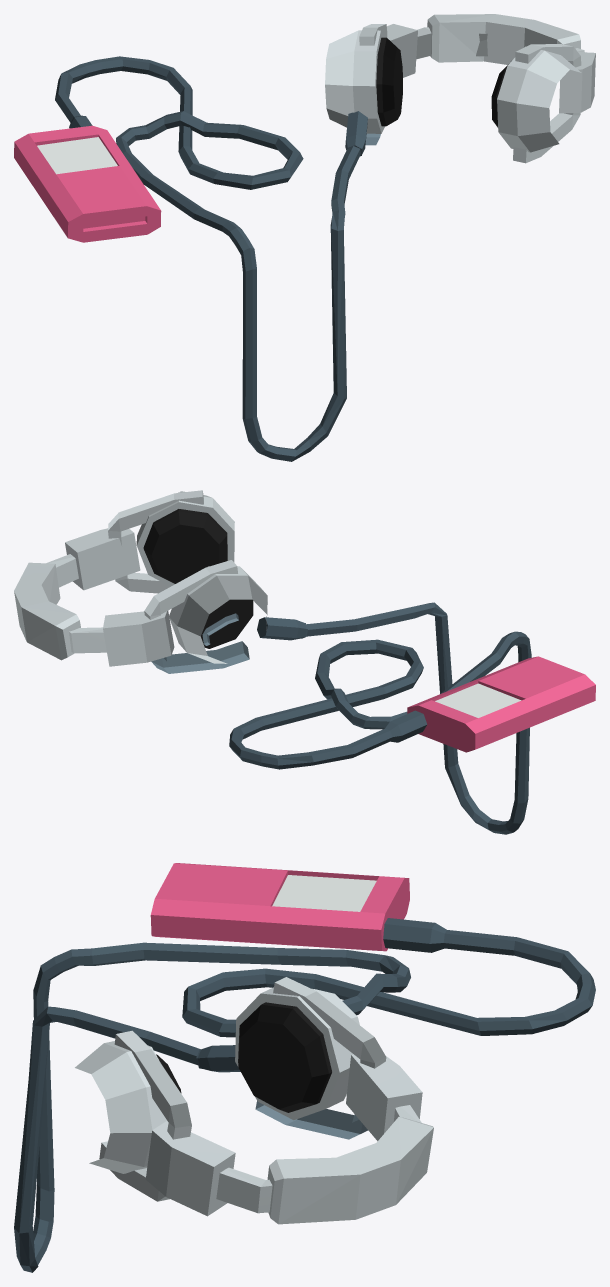
The model's file is headphones.glb.
3 views of the same model, one above another, from view 1: azimuth 30°, elevation 25°; view 2: azimuth 150°, elevation 25°; view 3: azimuth 270°, elevation 25° (orthographic). The views are drawn at different scales.
Visible parts, largest first — view 1: Headphones and iPod; view 2: Headphones and iPod; view 3: Headphones and iPod.
Boxes of the visible parts, x1,y1,x2,y2 form: Headphones and iPod: [14, 14, 595, 461]; Headphones and iPod: [14, 490, 595, 834]; Headphones and iPod: [14, 863, 595, 1272].
Bounding box in the file's own units: 0.6376 × 0.3486 × 0.4544.
